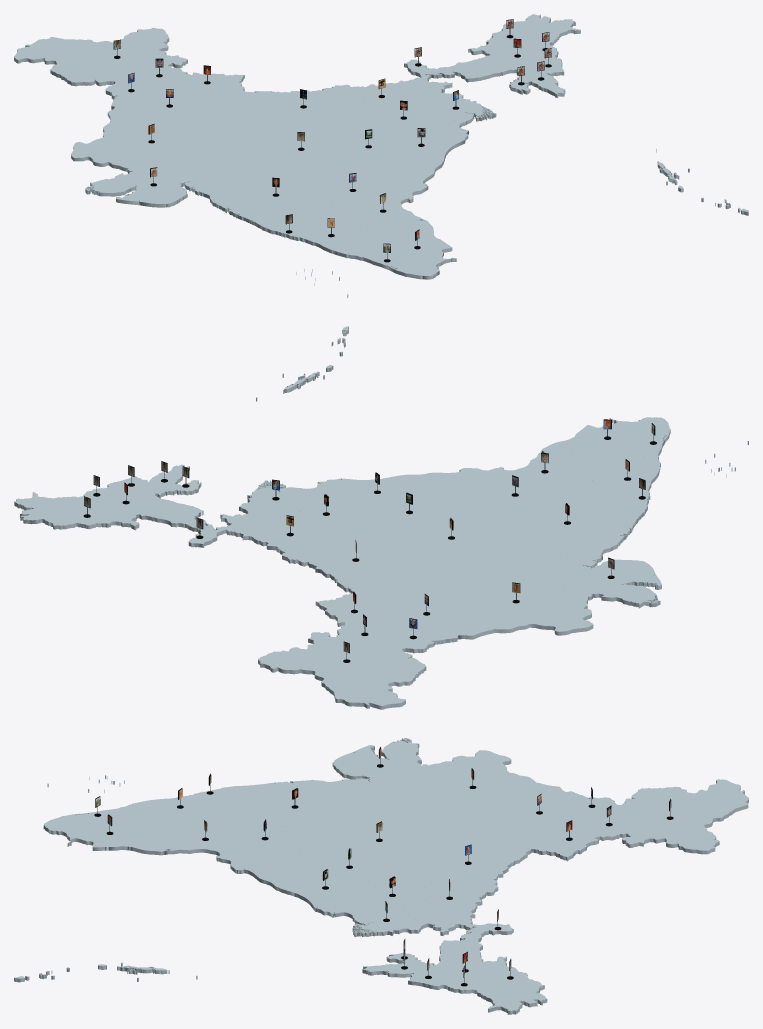
Rendered from india_try19.glb.
3 views of the same model, one above another, from view 1: azimuth 30°, elevation 25°; view 2: azimuth 150°, elevation 25°; view 3: azimuth 270°, elevation 25° (orthographic). The views are drawn at different scales.
Visible parts, largest first — view 1: IN-RJ, IN-MP, IN-MH, IN-JK, IN-UP, IN-GJ, IN-KA, IN-AP, IN-OR, IN-CT, IN-TN, IN-WB (+12 smaller); view 2: IN-RJ, IN-MP, IN-JK, IN-MH, IN-UP, IN-GJ, IN-KA, IN-OR, IN-AP, IN-CT, IN-AR, IN-TN (+10 smaller); view 3: IN-RJ, IN-MP, IN-JK, IN-MH, IN-UP, IN-GJ, IN-AP, IN-KA, IN-OR, IN-TN, IN-CT, IN-WB (+15 smaller).
Part boxes in pixels (x1,y1,x2,y2): IN-RJ: (71, 107, 241, 171); IN-MP: (194, 116, 352, 178); IN-MH: (211, 153, 369, 235); IN-JK: (14, 27, 187, 86); IN-UP: (178, 88, 365, 139); IN-GJ: (85, 161, 226, 207); IN-KA: (280, 193, 396, 253); IN-AP: (339, 154, 445, 235); IN-OR: (381, 119, 468, 179); IN-CT: (332, 118, 400, 181); IN-TN: (371, 220, 456, 279); IN-WB: (411, 66, 496, 124); IN-RJ: (415, 563, 593, 639); IN-MP: (354, 519, 560, 582); IN-JK: (258, 632, 426, 709); IN-MH: (438, 497, 647, 556); IN-UP: (295, 530, 446, 619); IN-GJ: (543, 544, 661, 608); IN-KA: (538, 449, 658, 509); IN-OR: (297, 478, 466, 513); IN-AP: (384, 449, 604, 487); IN-CT: (342, 483, 478, 537); IN-AR: (14, 492, 139, 530); IN-TN: (542, 417, 666, 457); IN-RJ: (389, 750, 565, 831); IN-MP: (341, 792, 481, 874); IN-JK: (621, 779, 748, 854); IN-MH: (214, 779, 364, 856); IN-UP: (408, 821, 566, 891); IN-GJ: (319, 738, 428, 796); IN-AP: (145, 818, 295, 896); IN-KA: (122, 793, 279, 834); IN-OR: (265, 861, 376, 921); IN-TN: (43, 813, 166, 855); IN-CT: (264, 851, 413, 889); IN-WB: (352, 903, 490, 942).
Size of the model in its own units: 0.6351 by 0.0236 by 0.722.
49 materials, 46 textured.
